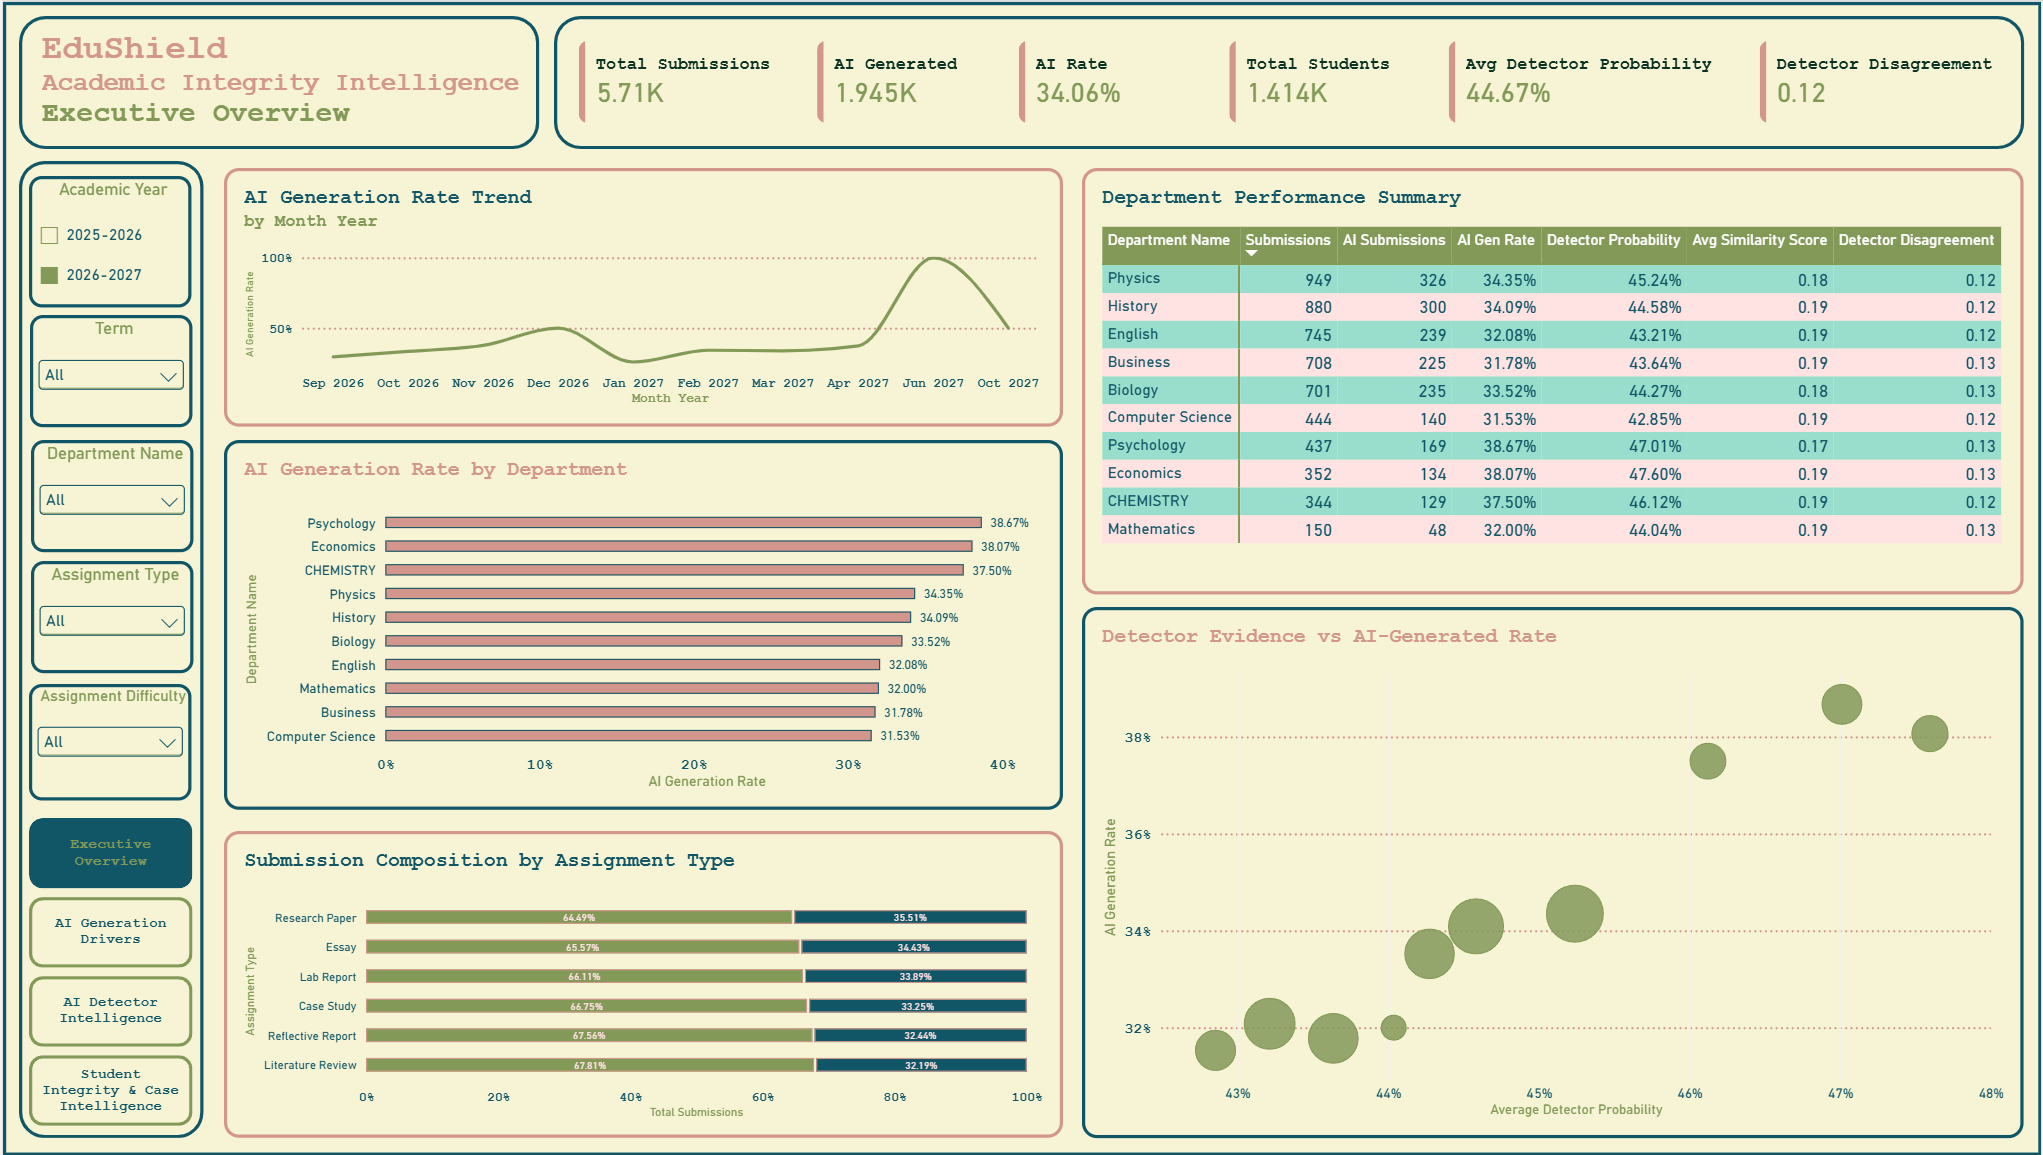

Layout of this report page (visuals, bound fields, positions):
{"tool":"powerbi","page":{"name":"Executive Overview","canvas":[1920,1080],"ordinal":0},"visuals":[{"type":"shape","box":[0,0,1907.4,1079.5],"z":0},{"type":"shape","box":[15.1,13.2,486.8,124.5],"z":1000},{"type":"textbox","box":[36.8,25.5,834,112.3],"z":2000},{"type":"shape","box":[15.1,149.1,172.7,914.2],"z":3000},{"type":"shape","box":[515.1,13.2,1375.6,124.5],"z":4000},{"type":"cardVisual","fields":{"Data":["1_All_Measures.Total Submissions","1_All_Measures.AI Generated Submissions"]},"box":[527.4,25.5,442.5,99.1],"z":5000},{"type":"cardVisual","fields":{"Data":["1_All_Measures.Average Detector Probability","1_All_Measures.Average Detector Disagreement"]},"box":[1341.6,25.5,578.4,99.1],"z":6000},{"type":"cardVisual","fields":{"Data":["1_All_Measures.AI Generation Rate","1_All_Measures.Total Students"]},"box":[939.7,25.5,390.6,99.1],"z":7000},{"type":"lineChart","title":"AI Generation Rate Trend","fields":{"Category":["DimDate.Month Year"],"Y":["1_All_Measures.AI Generation Rate"]},"box":[206.8,155.3,785,242.3],"z":8000},{"type":"clusteredBarChart","title":"AI Generation Rate by Department","fields":{"Y":["1_All_Measures.AI Generation Rate"],"Category":["vw_submission_analytics.department_name"]},"box":[206.8,409.8,785,346.2],"z":9000},{"type":"hundredPercentStackedBarChart","title":"Submission Composition by Assignment Type","fields":{"Y":["1_All_Measures.Total Submissions"],"Category":["vw_submission_analytics.assignment_type"],"Series":["vw_submission_analytics.is_ai_generated"]},"box":[206.8,775.7,785,287.3],"z":10000},{"type":"scatterChart","title":"Detector Evidence vs AI-Generated Rate","fields":{"Category":["vw_submission_analytics.department_name"],"X":["1_All_Measures.Average Detector Probability"],"Y":["1_All_Measures.AI Generation Rate"],"Size":["1_All_Measures.Total Submissions"]},"box":[1009.6,566.1,881.4,496.8],"z":11000},{"type":"pivotTable","title":"Department Performance Summary","fields":{"Rows":["vw_submission_analytics.department_name"],"Values":["1_All_Measures.Total Submissions","1_All_Measures.AI Generated Submissions","1_All_Measures.AI Generation Rate","1_All_Measures.Average Detector Probability","1_All_Measures.Average Similarity Score","1_All_Measures.Average Detector Disagreement"]},"box":[1009.6,155.3,881.4,398.6],"z":12000},{"type":"pageNavigator","box":[24.3,763.5,153.5,290.1],"z":13000},{"type":"slicer","title":"Academic Year","fields":{"Values":["academic_terms.academic_year"]},"box":[24.3,162.8,151.6,122.6],"z":13001},{"type":"slicer","title":"Term","fields":{"Values":["academic_terms.term_name"]},"box":[25.3,292.9,151.6,104.8],"z":13002},{"type":"slicer","title":"Department Name","fields":{"Values":["departments.department_name"]},"box":[26.2,409.8,151.6,104.8],"z":13003},{"type":"slicer","title":"Assignment Type","fields":{"Values":["assignments.assignment_type"]},"box":[26.2,523,151.6,104.8],"z":13004},{"type":"slicer","title":"Assignment Difficulty","fields":{"Values":["vw_submission_analytics.assignment_difficulty"]},"box":[24.3,638.1,151.6,108.5],"z":13005}]}

Visuals, with their boxes in screenshot pixels (x1, y1, x2, y2), scaled from the page's 1920x1080 canvas onto the 2043x1155 screenshot:
shape: x1=0, y1=0, x2=2030, y2=1154
shape: x1=16, y1=14, x2=534, y2=147
textbox: x1=39, y1=27, x2=927, y2=147
shape: x1=16, y1=159, x2=200, y2=1137
shape: x1=548, y1=14, x2=2012, y2=147
cardVisual - 1_All_Measures.Total Submissions x 1_All_Measures.AI Generated Submissions: x1=561, y1=27, x2=1032, y2=133
cardVisual - 1_All_Measures.Average Detector Probability x 1_All_Measures.Average Detector Disagreement: x1=1428, y1=27, x2=2042, y2=133
cardVisual - 1_All_Measures.AI Generation Rate x 1_All_Measures.Total Students: x1=1000, y1=27, x2=1416, y2=133
"AI Generation Rate Trend" lineChart: x1=220, y1=166, x2=1055, y2=425
"AI Generation Rate by Department" clusteredBarChart: x1=220, y1=438, x2=1055, y2=808
"Submission Composition by Assignment Type" hundredPercentStackedBarChart: x1=220, y1=830, x2=1055, y2=1137
"Detector Evidence vs AI-Generated Rate" scatterChart: x1=1074, y1=605, x2=2012, y2=1137
"Department Performance Summary" pivotTable: x1=1074, y1=166, x2=2012, y2=592
pageNavigator: x1=26, y1=817, x2=189, y2=1127
"Academic Year" slicer: x1=26, y1=174, x2=187, y2=305
"Term" slicer: x1=27, y1=313, x2=188, y2=425
"Department Name" slicer: x1=28, y1=438, x2=189, y2=550
"Assignment Type" slicer: x1=28, y1=559, x2=189, y2=671
"Assignment Difficulty" slicer: x1=26, y1=682, x2=187, y2=798
